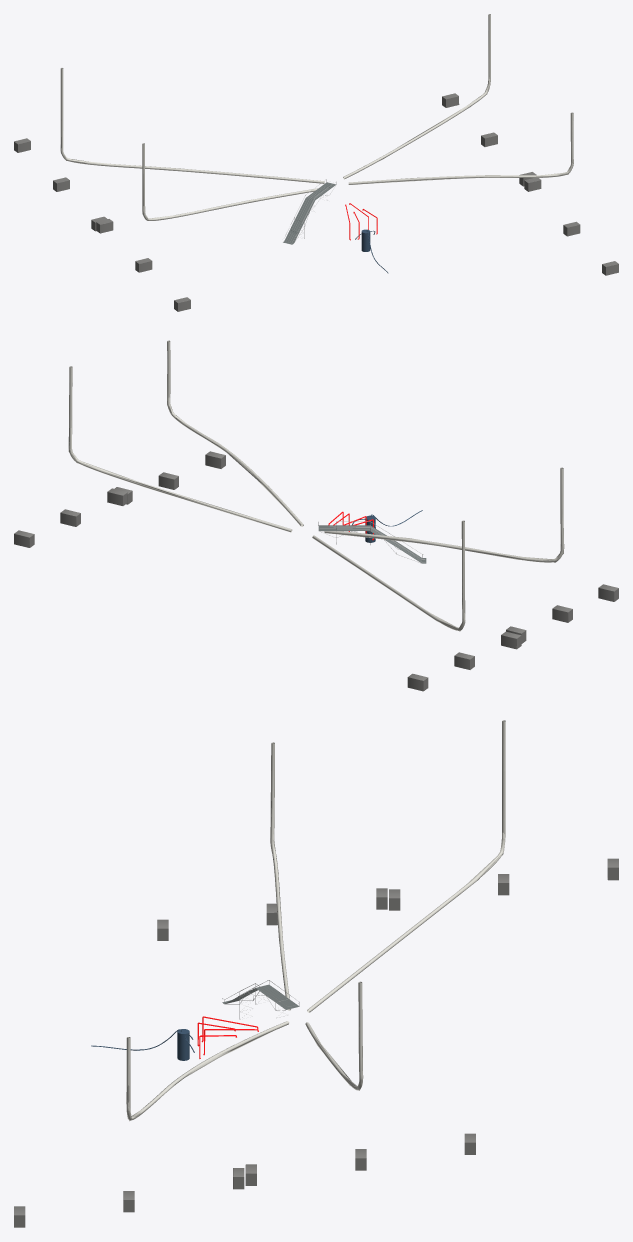
The model's file is STEMP_Station_2.glb.
3 renders of one model, top to bottom at view 1: azimuth 30°, elevation 25°; view 2: azimuth 150°, elevation 25°; view 3: azimuth 270°, elevation 25°, orthographic. The views are drawn at different scales.
Visible parts, largest first — view 1: Mirror_-Bases_2, Pipes-Mirrors-to-Tank-Insulation_2E, Pipes-Mirrors-to-Tank-Insulation_2W.001, Pipes-Mirrors-to-Tank-Insulation_2W.002, Pipes-Mirrors-to-Tank-Insulation_2W, Pipes-Mirrors-to-Tank-Insulation_2E.001, Gangway_2, Pipes-Mirrors-to-Tank-Insulation_2E.002; view 2: Mirror_-Bases_2, Pipes-Mirrors-to-Tank-Insulation_2E.002, Pipes-Mirrors-to-Tank-Insulation_2W, Pipes-Mirrors-to-Tank-Insulation_2E.001, Pipes-Mirrors-to-Tank-Insulation_2W.002, Pipes-Mirrors-to-Tank-Insulation_2W.001, Pipes-Mirrors-to-Tank-Insulation_2E, Gangway_2; view 3: Mirror_-Bases_2, Pipes-Mirrors-to-Tank-Insulation_2W, Pipes-Mirrors-to-Tank-Insulation_2W.002, Pipes-Mirrors-to-Tank-Insulation_2E.001, Pipes-Mirrors-to-Tank-Insulation_2E.002, Pipes-Mirrors-to-Tank-Insulation_2W.001, Pipes-Mirrors-to-Tank-Insulation_2E, Gangway_2.
Part boxes in pixels (x1=…): Mirror_-Bases_2: x1=14, y1=93, x2=618, y2=311; Pipes-Mirrors-to-Tank-Insulation_2E: x1=343, y1=20, x2=573, y2=184; Pipes-Mirrors-to-Tank-Insulation_2W.001: x1=60, y1=78, x2=324, y2=220; Pipes-Mirrors-to-Tank-Insulation_2W.002: x1=60, y1=68, x2=324, y2=220; Pipes-Mirrors-to-Tank-Insulation_2W: x1=60, y1=68, x2=324, y2=220; Pipes-Mirrors-to-Tank-Insulation_2E.001: x1=343, y1=14, x2=573, y2=184; Gangway_2: x1=283, y1=179, x2=336, y2=244; Pipes-Mirrors-to-Tank-Insulation_2E.002: x1=343, y1=14, x2=573, y2=184; Mirror_-Bases_2: x1=14, y1=451, x2=618, y2=691; Pipes-Mirrors-to-Tank-Insulation_2E.002: x1=68, y1=341, x2=303, y2=532; Pipes-Mirrors-to-Tank-Insulation_2W: x1=312, y1=468, x2=564, y2=630; Pipes-Mirrors-to-Tank-Insulation_2E.001: x1=68, y1=340, x2=303, y2=531; Pipes-Mirrors-to-Tank-Insulation_2W.002: x1=312, y1=468, x2=563, y2=631; Pipes-Mirrors-to-Tank-Insulation_2W.001: x1=313, y1=467, x2=564, y2=630; Pipes-Mirrors-to-Tank-Insulation_2E: x1=68, y1=341, x2=302, y2=532; Gangway_2: x1=318, y1=521, x2=426, y2=563; Mirror_-Bases_2: x1=14, y1=858, x2=618, y2=1227; Pipes-Mirrors-to-Tank-Insulation_2W: x1=270, y1=732, x2=505, y2=1011; Pipes-Mirrors-to-Tank-Insulation_2W.002: x1=270, y1=720, x2=505, y2=1011; Pipes-Mirrors-to-Tank-Insulation_2E.001: x1=126, y1=982, x2=363, y2=1120; Pipes-Mirrors-to-Tank-Insulation_2E.002: x1=126, y1=982, x2=362, y2=1121; Pipes-Mirrors-to-Tank-Insulation_2W.001: x1=270, y1=720, x2=505, y2=1012; Pipes-Mirrors-to-Tank-Insulation_2E: x1=126, y1=981, x2=363, y2=1120; Gangway_2: x1=222, y1=980, x2=299, y2=1019.
Size of what is drawn, in the model's own units: 131 by 54.52 by 124.
